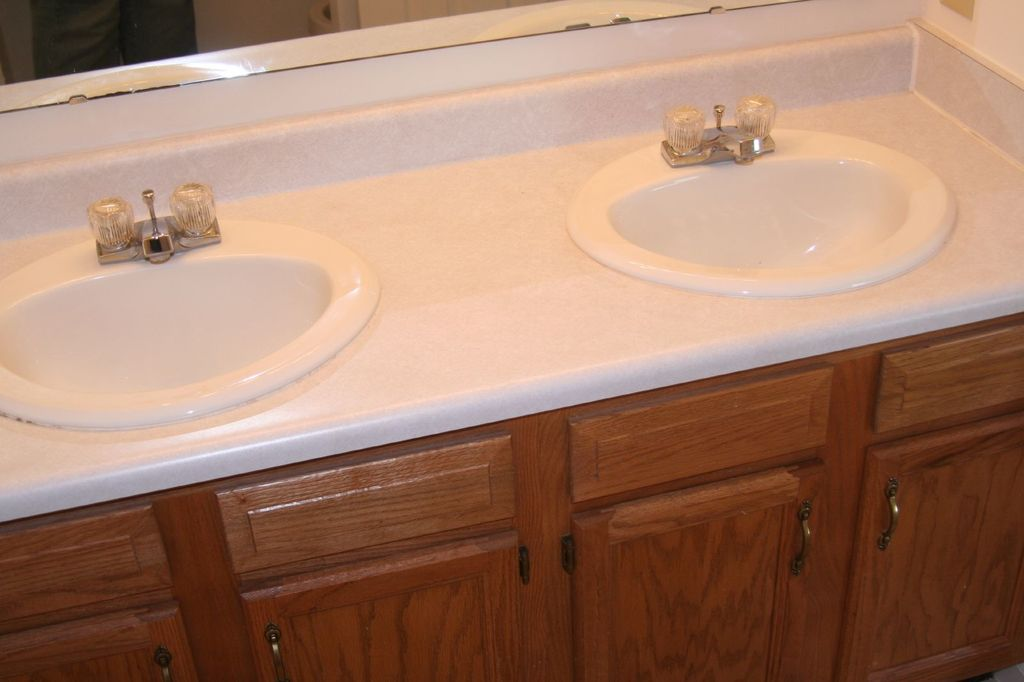tap: (131, 177, 177, 265), (711, 133, 774, 159)
